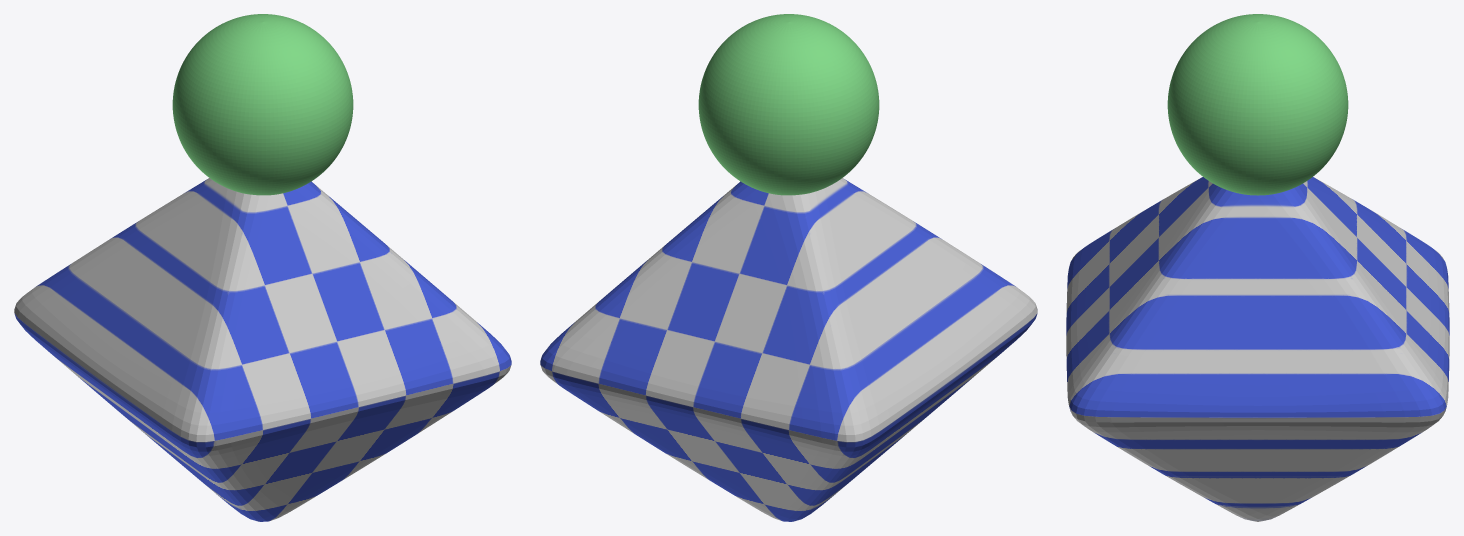
File: BOD4_BMC0_BCC13_BPT4_FRC0_HEA0_HMC13_HCC0_HPT0_ELT0_ERT0_ELL0_ERL0_AP0_AAL0_AAR0_BEK0.fbx
3 views of the same model, side by side, from view 1: azimuth 30°, elevation 25°; view 2: azimuth 150°, elevation 25°; view 3: azimuth 270°, elevation 25° (orthographic).
Parts seen in each view (by area): view 1: Body, Head; view 2: Body, Head; view 3: Body, Head.
Boxes of the visible parts, bbox=[...] form: Body: bbox=[14, 178, 511, 521]; Head: bbox=[172, 14, 353, 195]; Body: bbox=[540, 178, 1037, 521]; Head: bbox=[698, 14, 879, 195]; Body: bbox=[1066, 177, 1449, 521]; Head: bbox=[1167, 14, 1348, 195].
Bounding box in the file's own units: 105 × 150 × 105.
2 materials, 2 textured.
